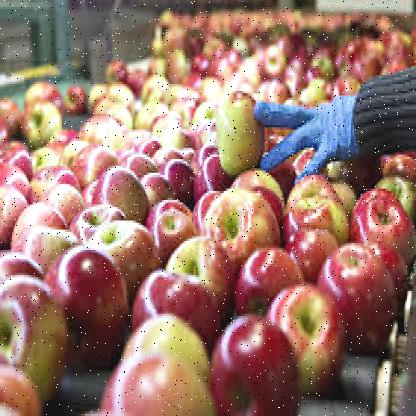apple: (42, 250, 128, 359), (212, 316, 300, 414), (315, 236, 401, 334), (263, 278, 346, 378), (132, 266, 216, 341), (213, 90, 277, 186), (204, 178, 284, 250), (166, 229, 238, 307), (288, 170, 348, 245), (354, 189, 412, 257), (95, 166, 153, 225)
